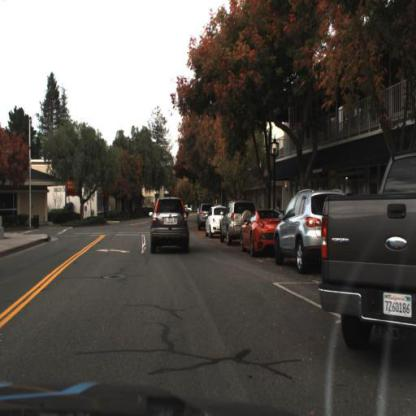car: (320, 147, 416, 353), (271, 187, 350, 281), (147, 194, 193, 261), (241, 207, 286, 258), (219, 199, 259, 244), (203, 203, 230, 239)
